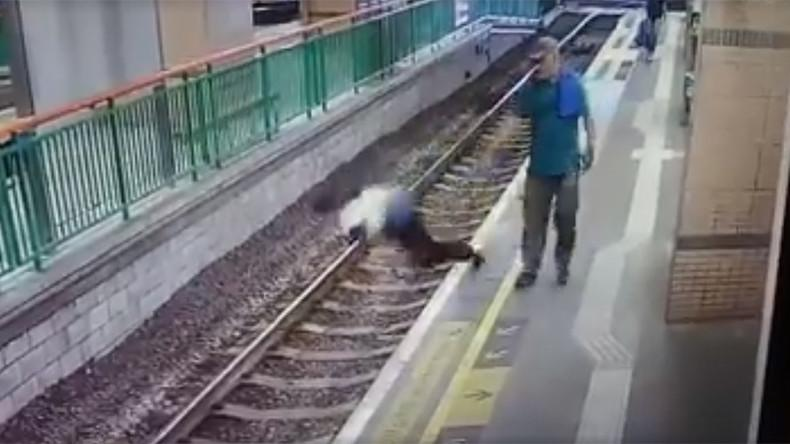person: (485, 8, 624, 301), (297, 152, 494, 286), (631, 0, 674, 77)
